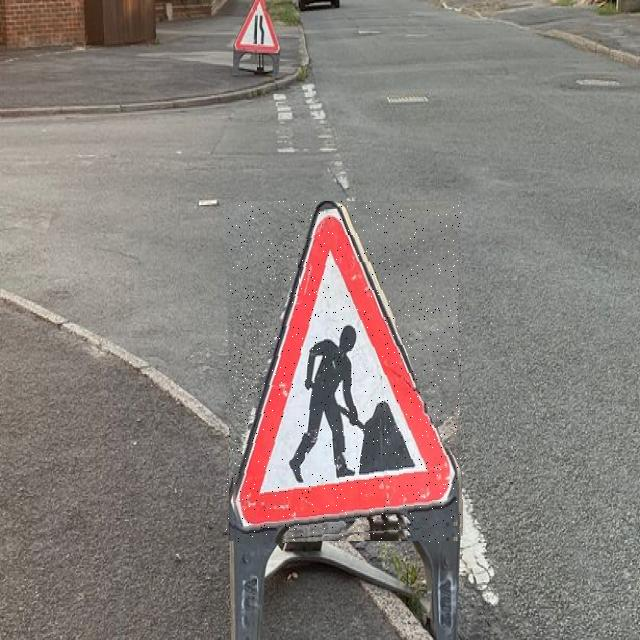roadwork: (226, 201, 461, 543)
